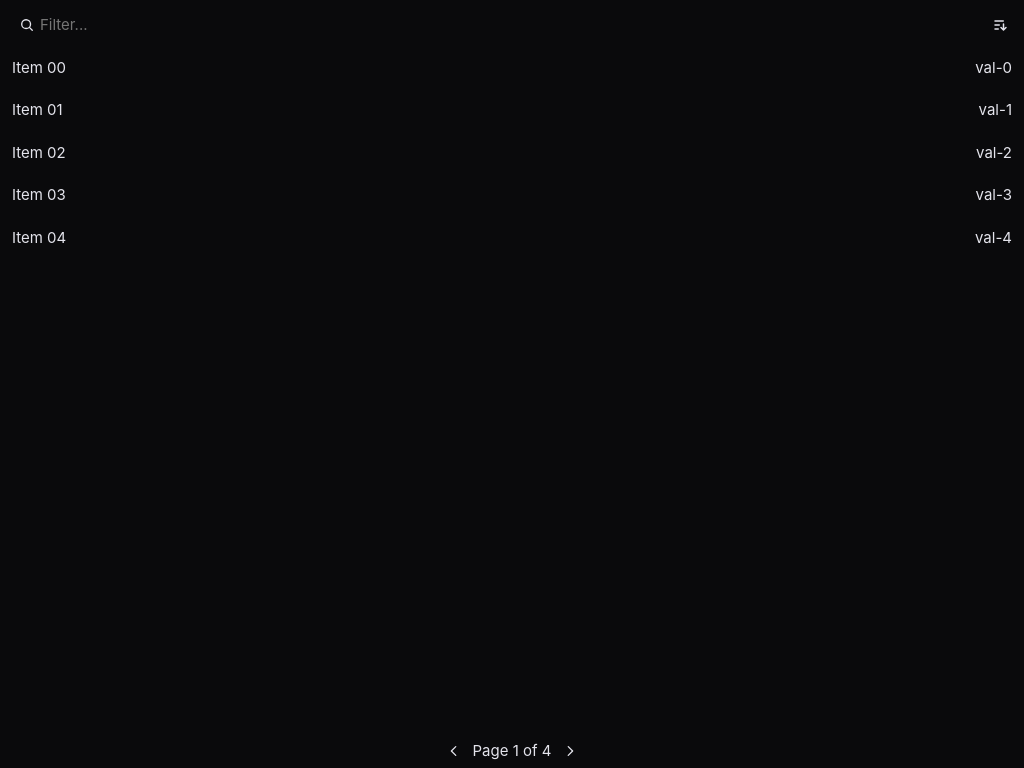
Scenario: ListView › resets to page 1 when search term changes
# Go to page 2
Click the button named "next" at (570, 751), box 560,740 -> 582,762
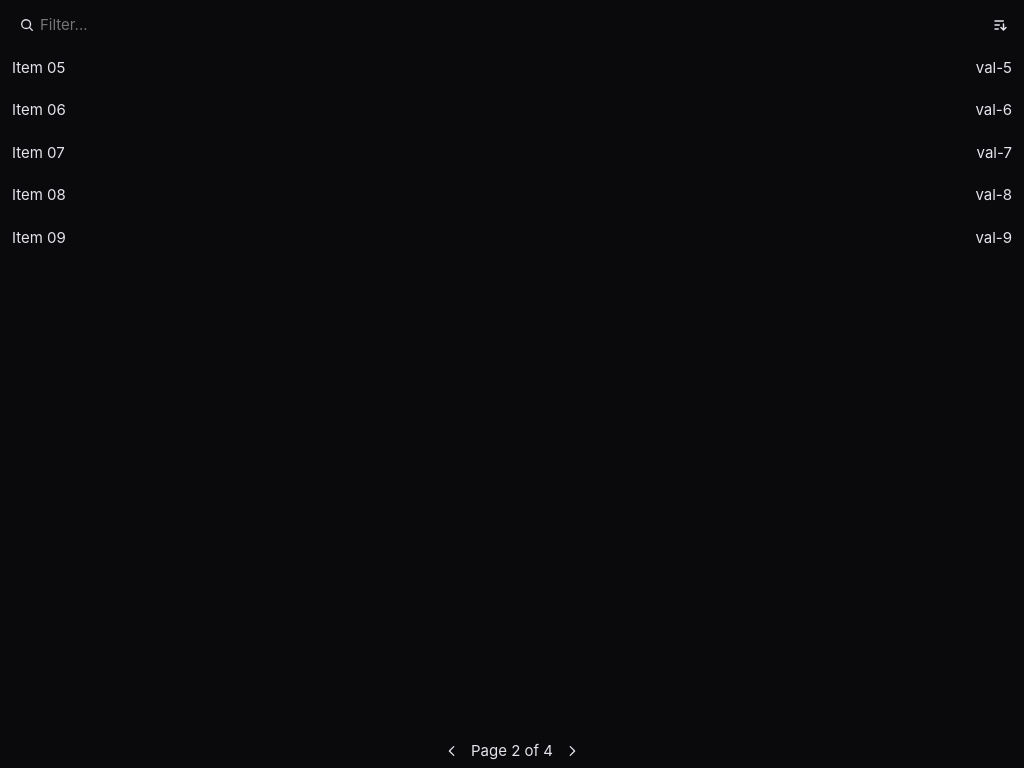
Expected: the text "Page 2 of 4" is shown, 471,740 -> 553,762
# Type search -- should reset to page 1
Type "Item 0" into the search field at (496, 25), box 12,8 -> 980,42
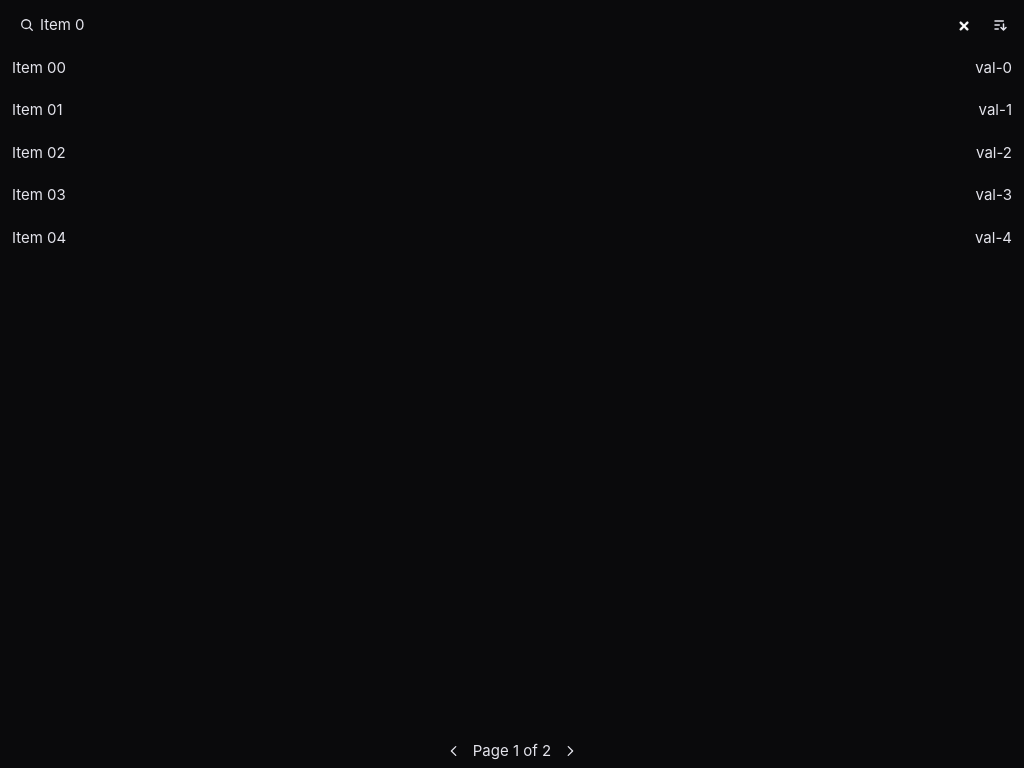
Expected: the text "Page 1 of 2" is shown, 473,740 -> 551,762
